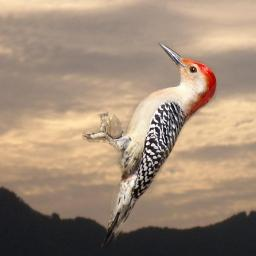Woodpecker: (82, 41, 220, 247)
